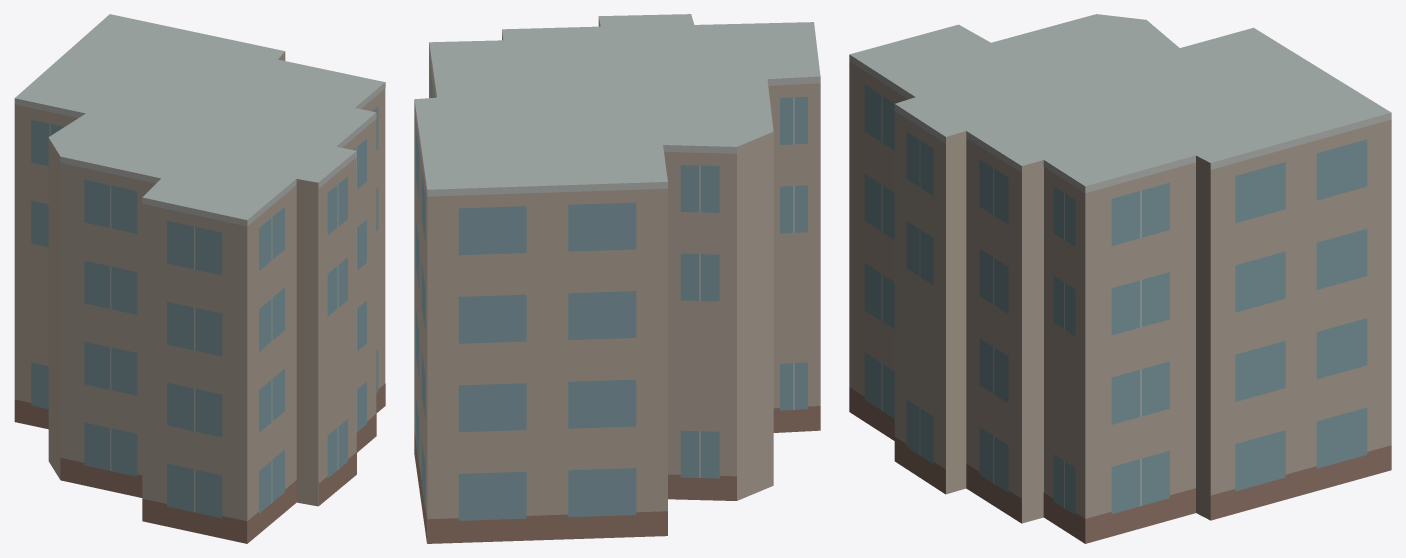
Rendered from survey-upis-32506482.glb.
3 renders of one model, left to right at view 1: azimuth 30°, elevation 25°; view 2: azimuth 150°, elevation 25°; view 3: azimuth 270°, elevation 25°, orthographic. The views are drawn at different scales.
Parts seen in each view (by area): view 1: survey-upis-32506482.tmp; view 2: survey-upis-32506482.tmp; view 3: survey-upis-32506482.tmp.
Boxes of the visible parts, bbox=[...] form: survey-upis-32506482.tmp: bbox=[14, 14, 385, 543]; survey-upis-32506482.tmp: bbox=[414, 14, 820, 543]; survey-upis-32506482.tmp: bbox=[849, 14, 1391, 543].
Bounding box in the file's own units: 13.14 × 12.7 × 17.47.
